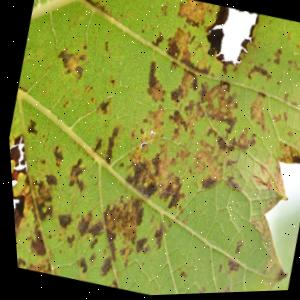Folha: (0, 0, 300, 300)
Fungo: (82, 134, 196, 282), (114, 141, 192, 212), (7, 129, 37, 239), (93, 188, 146, 247), (117, 155, 161, 201), (85, 118, 122, 165), (173, 0, 220, 33), (151, 169, 187, 211), (139, 60, 172, 105), (50, 43, 87, 81), (242, 91, 273, 135), (59, 153, 90, 196), (160, 107, 190, 143), (7, 131, 32, 172), (98, 122, 119, 163), (219, 237, 241, 276), (96, 227, 119, 261), (163, 179, 184, 211), (125, 158, 147, 188), (70, 207, 91, 237), (146, 219, 164, 250), (111, 242, 131, 268), (219, 171, 242, 193), (99, 133, 115, 163), (82, 216, 102, 239), (195, 171, 216, 192), (138, 175, 156, 199), (93, 253, 110, 278), (51, 209, 71, 230), (46, 142, 63, 166), (145, 151, 161, 175), (166, 83, 182, 104), (23, 116, 39, 136), (92, 97, 109, 115), (180, 96, 196, 115), (129, 234, 144, 254), (148, 29, 164, 47), (130, 203, 142, 227), (75, 39, 88, 60), (220, 258, 236, 275), (71, 255, 86, 273), (40, 171, 56, 187), (88, 134, 101, 153), (269, 47, 282, 66), (70, 177, 84, 193), (60, 231, 72, 247), (71, 63, 83, 79), (107, 123, 118, 139), (217, 283, 232, 294), (230, 239, 240, 255), (189, 284, 202, 295), (205, 287, 225, 294), (81, 82, 92, 94), (84, 235, 94, 248), (136, 139, 147, 150), (84, 250, 93, 263), (106, 74, 115, 86), (101, 39, 108, 52), (145, 126, 153, 137), (174, 269, 183, 278), (60, 98, 68, 107), (162, 218, 170, 227), (213, 263, 218, 272)
